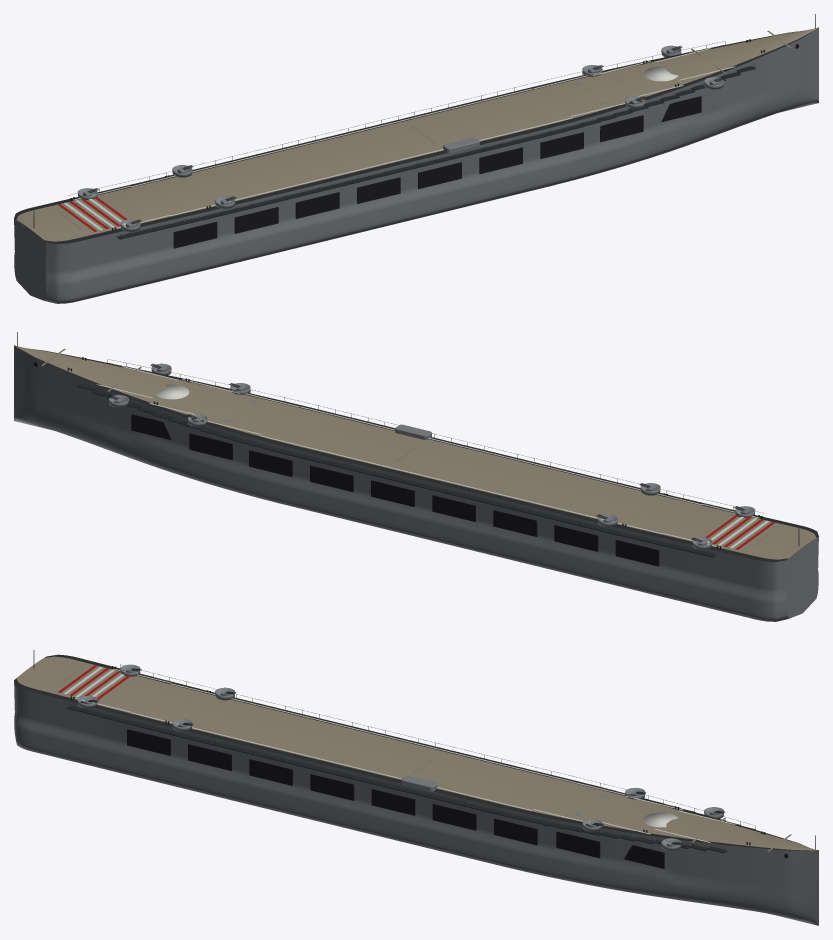
The model's file is ryuho.glb.
3 renders of one model, top to bottom at view 1: azimuth 30°, elevation 25°; view 2: azimuth 150°, elevation 25°; view 3: azimuth 330°, elevation 25°, orthographic.
Visible parts, largest first — view 1: ryuho; view 2: ryuho; view 3: ryuho.
Part boxes in pixels (x1,y1,x2,y2): ryuho: [14, 14, 818, 303]; ryuho: [14, 332, 818, 621]; ryuho: [14, 650, 818, 925].
Size of the model in its own units: 216 by 23.43 by 25.4.
